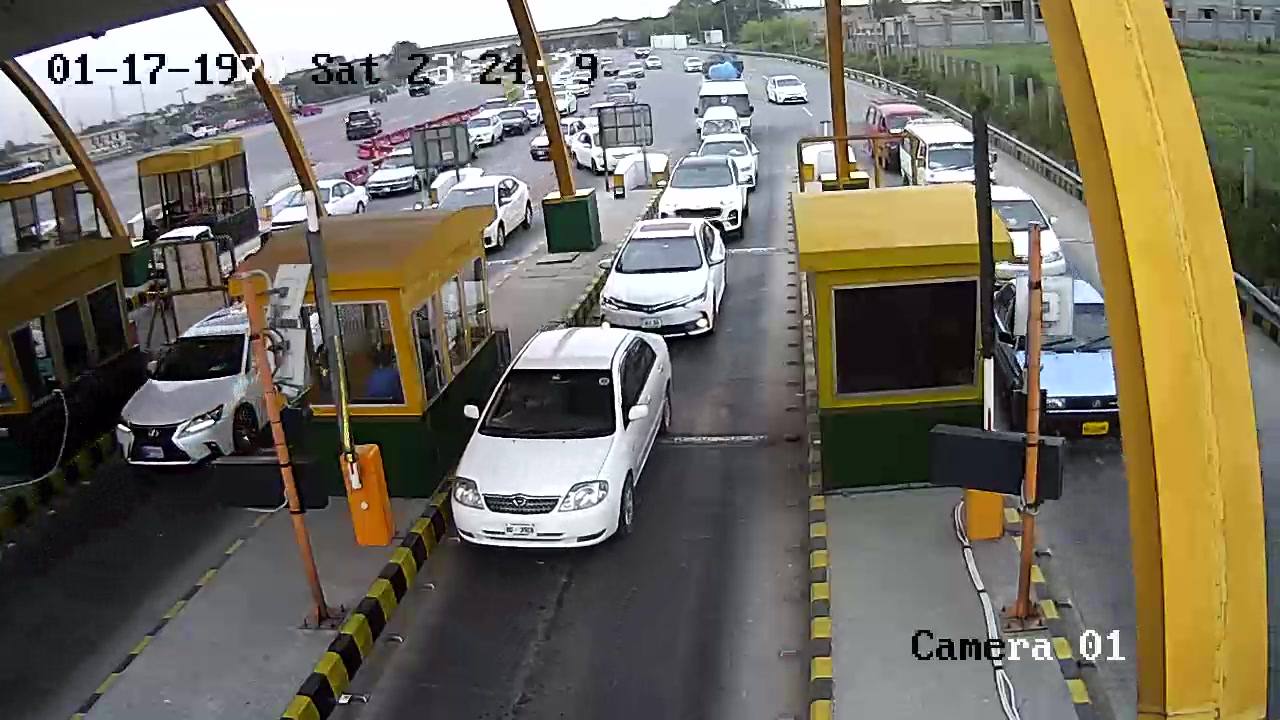F1: (448, 325, 678, 566)
